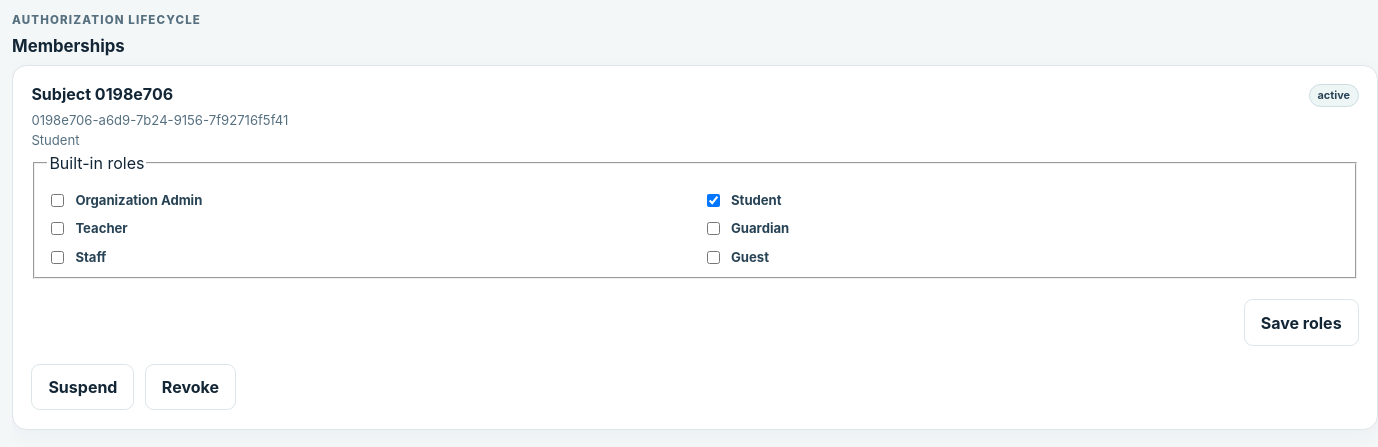
Test case: MembershipAdministration › transitions a listed membership with tenant and CSRF context
This screenshot has width=1378, height=447.
Click the button "Suspend" at point(83, 387), box [31, 364, 134, 410]
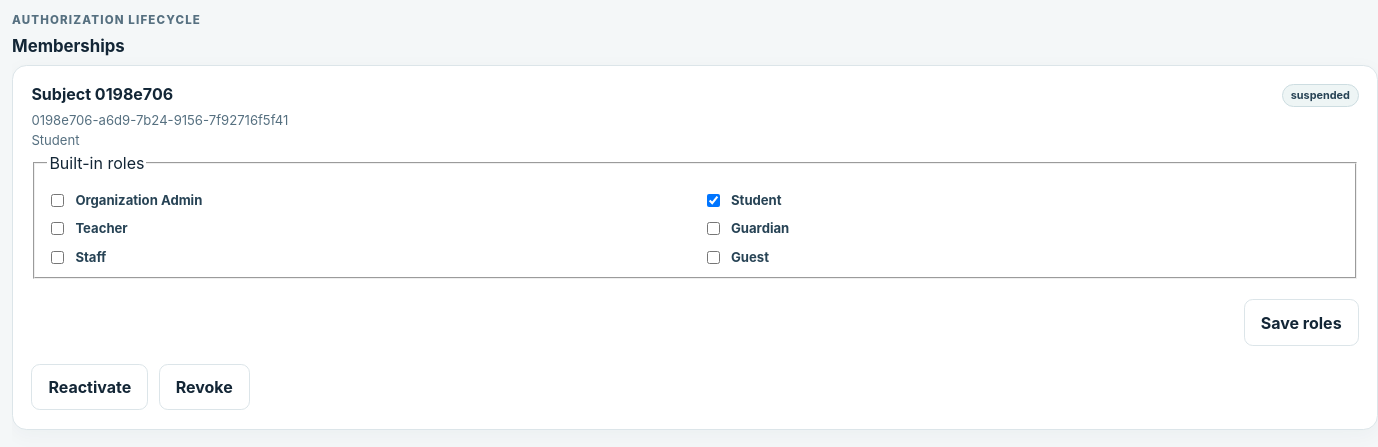
Expected: the text "suspended" is shown, [1282, 84, 1359, 107]
Expected: the button "Reactivate" is shown, [31, 364, 148, 410]
